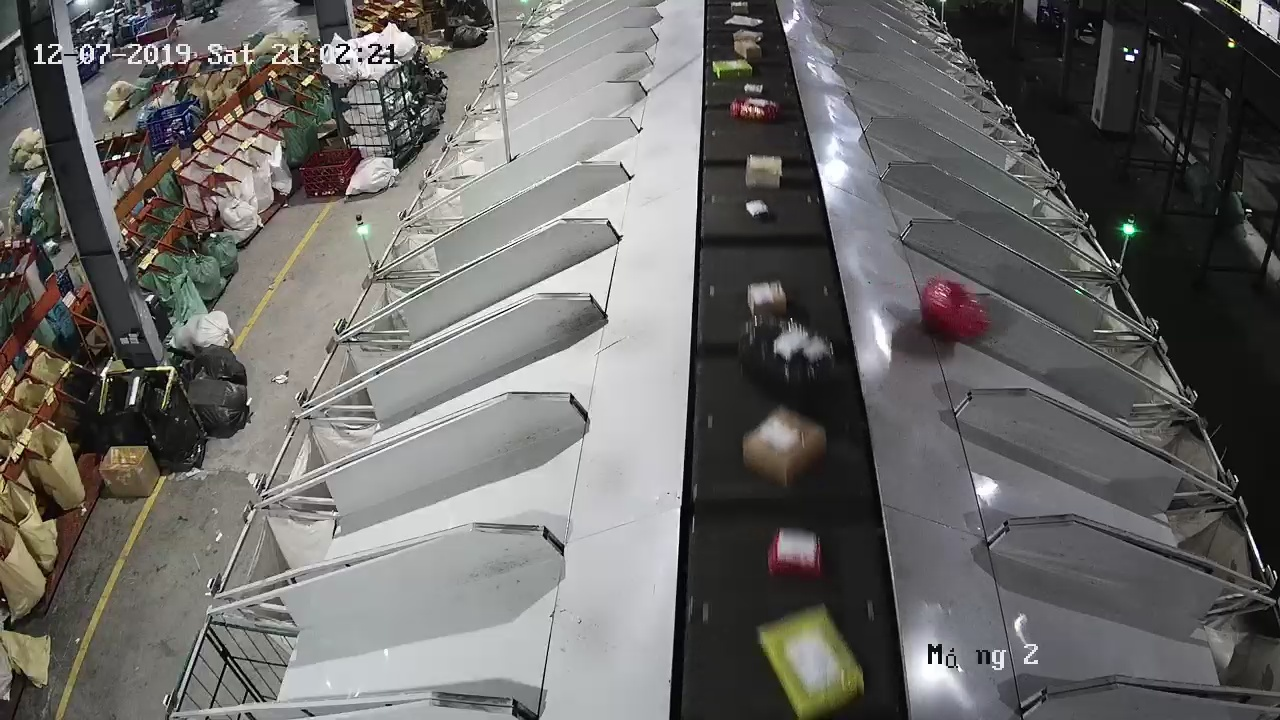parcel: (918, 276, 990, 344)
